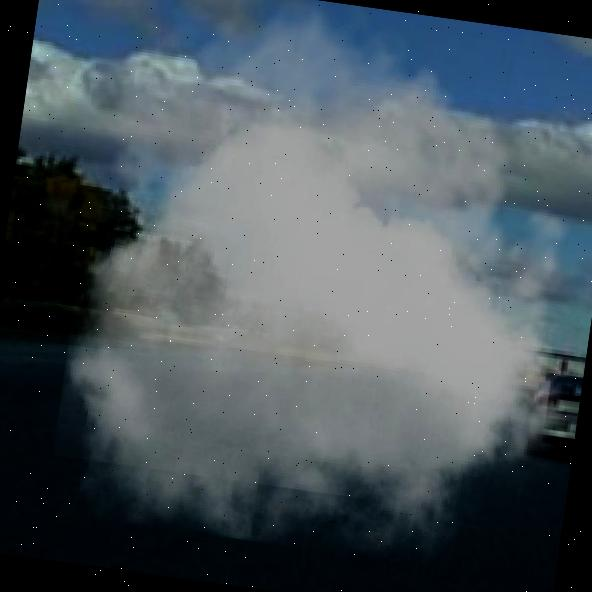smoke: (44, 0, 592, 584)
